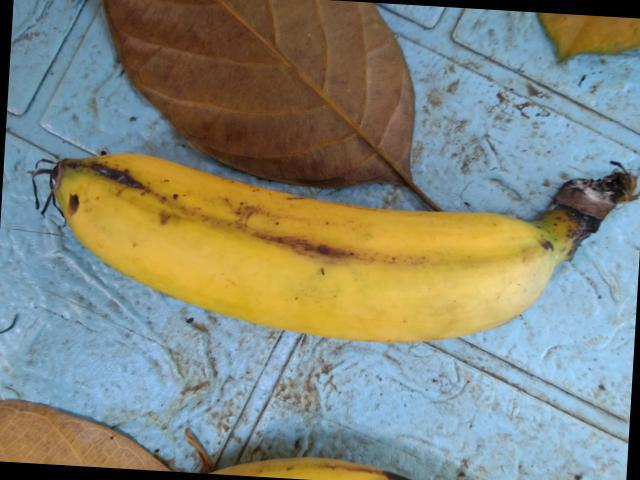ripe: (21, 119, 555, 381)
